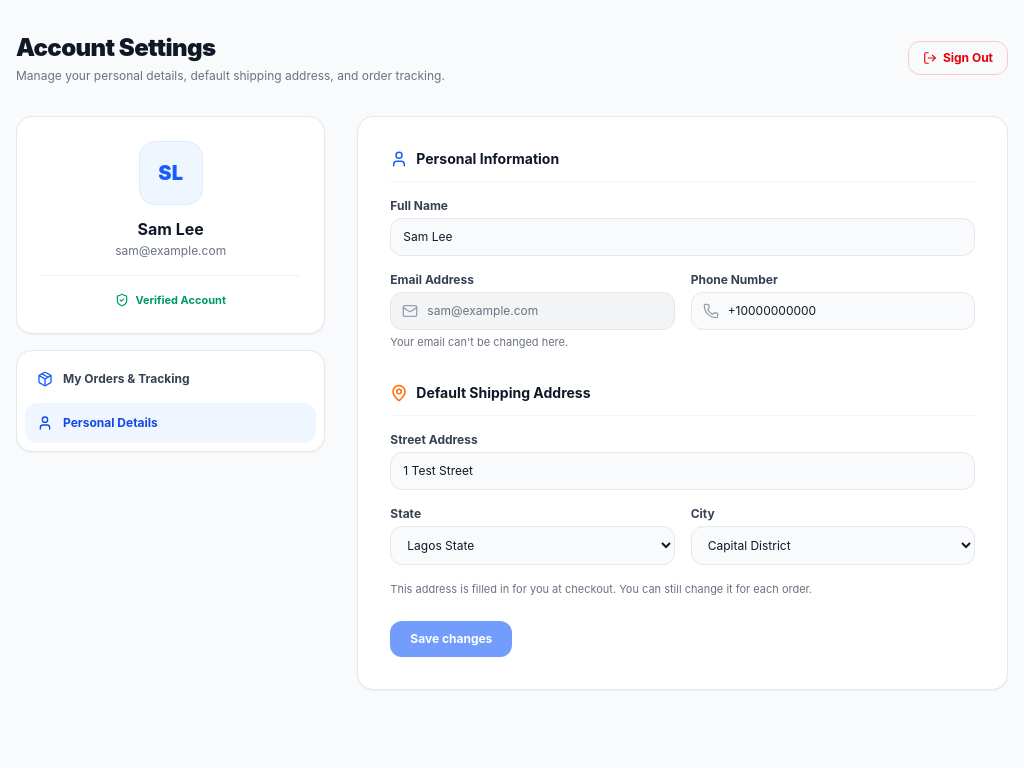
Test: Profile page › the success message goes away when the customer edits again
Type "y" into the field labelled "Full Name" at (683,237), box x1=390 y1=218 x2=975 y2=256
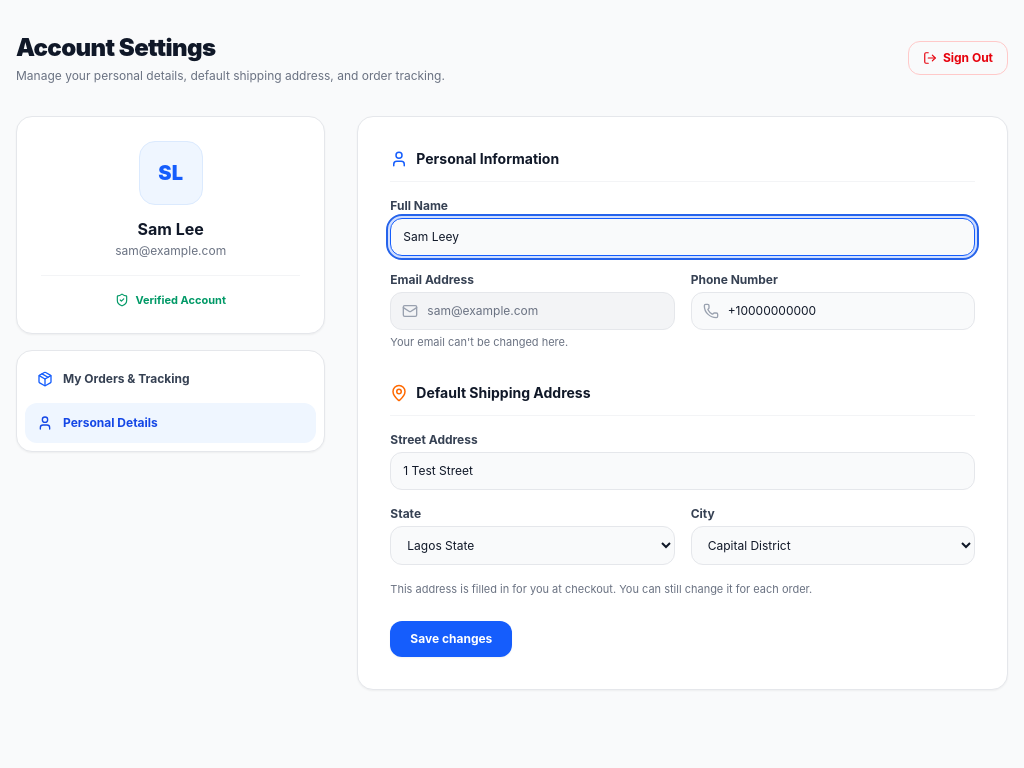
Click the button "Save changes" at (451,639), box x1=390 y1=621 x2=512 y2=657
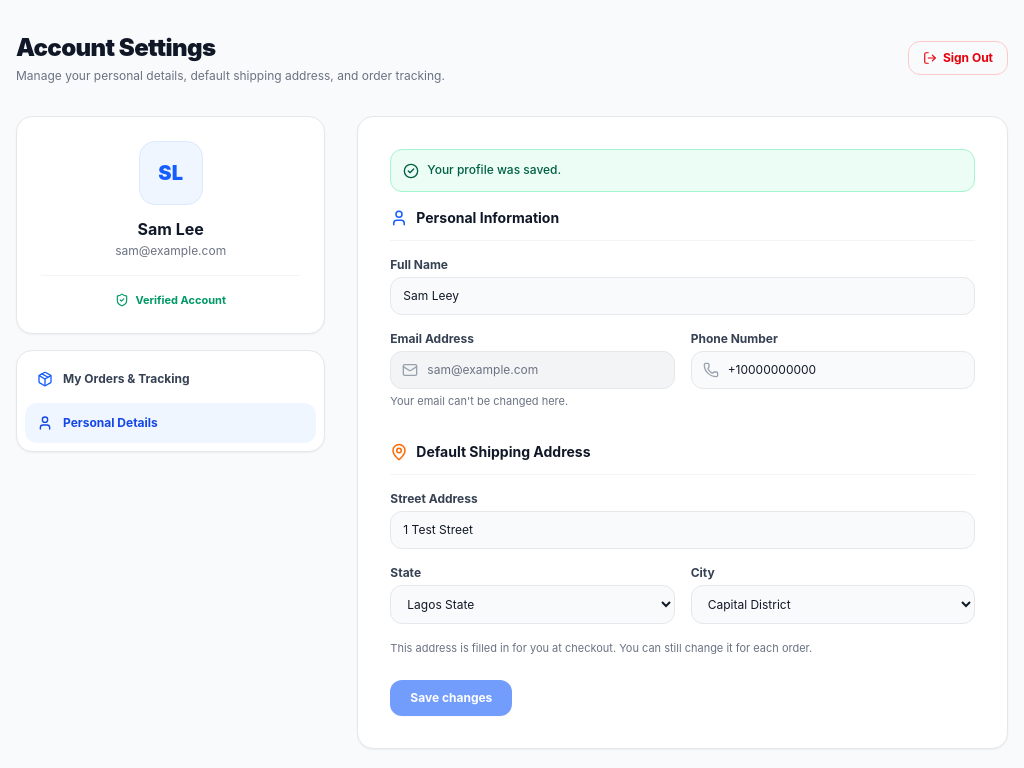
Expected: the message "Your profile was saved." is shown, x1=390 y1=149 x2=975 y2=192
Type "z" into the field labelled "Full Name" at (683,296), box x1=390 y1=277 x2=975 y2=315
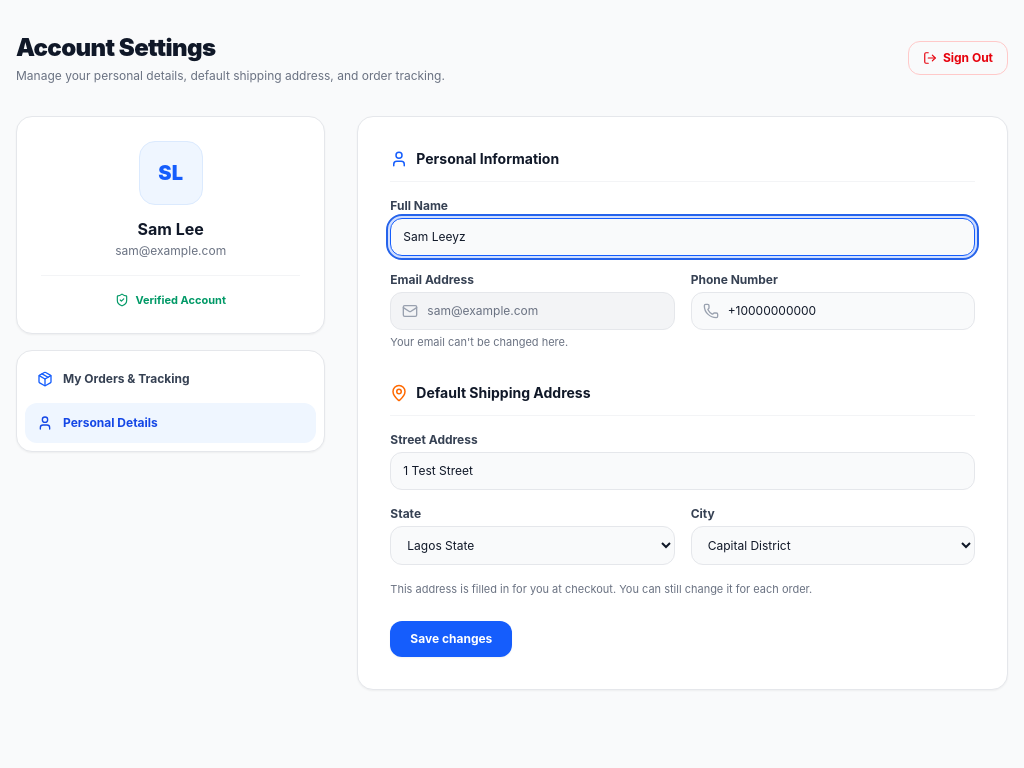
Expected: the message "Your profile was saved." is gone
